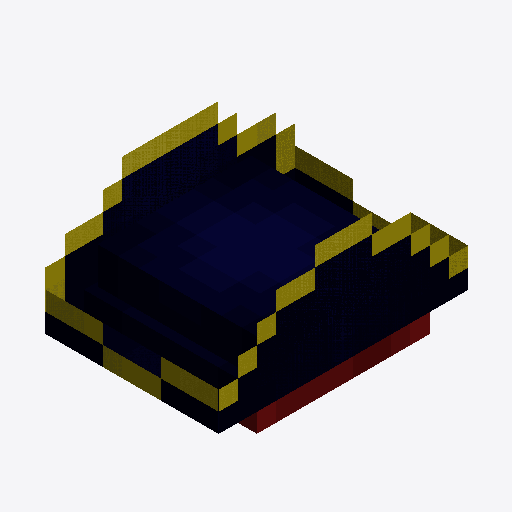
Isometric view (azimuth 45°, elevation 35.3°) of a Minecraft model made of 8 cuboids, textured from the same repository.
Parts seen in each view (by area): element 3, element 5, element 4, element 1, element 6, element 7, element 2.
Part boxes in pixels (left/top/right/bottom): element 3: left=98, top=156, right=378, bottom=366; element 5: left=219, top=212, right=467, bottom=432; element 4: left=45, top=102, right=294, bottom=333; element 1: left=84, top=282, right=429, bottom=433; element 6: left=46, top=290, right=217, bottom=432; element 7: left=295, top=146, right=467, bottom=255; element 2: left=103, top=323, right=218, bottom=433.
Bounding box in the file's own units: 13 × 7 × 9.11.